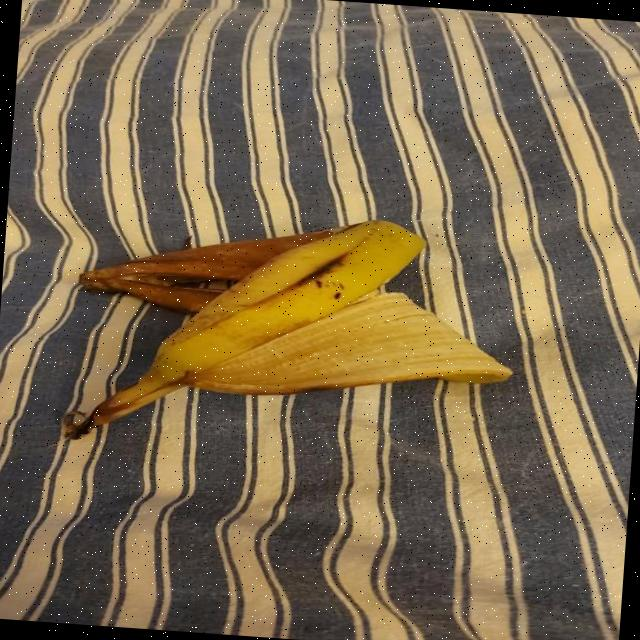banana-peel: (60, 196, 521, 469)
